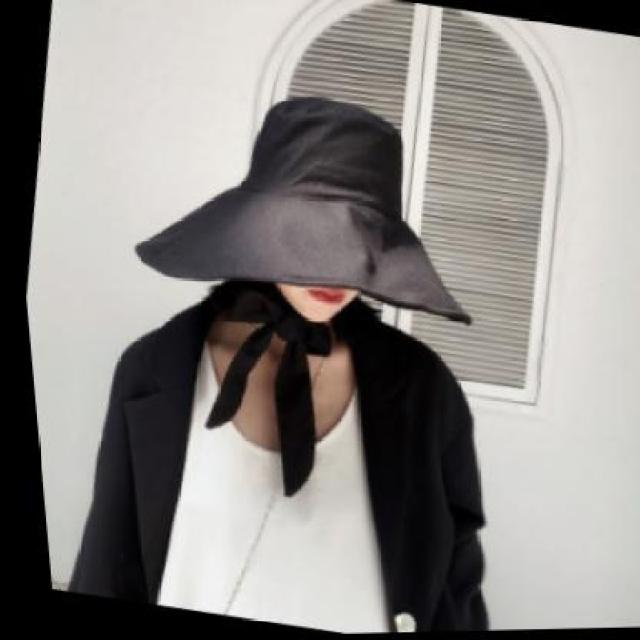hat: (110, 59, 502, 336)
